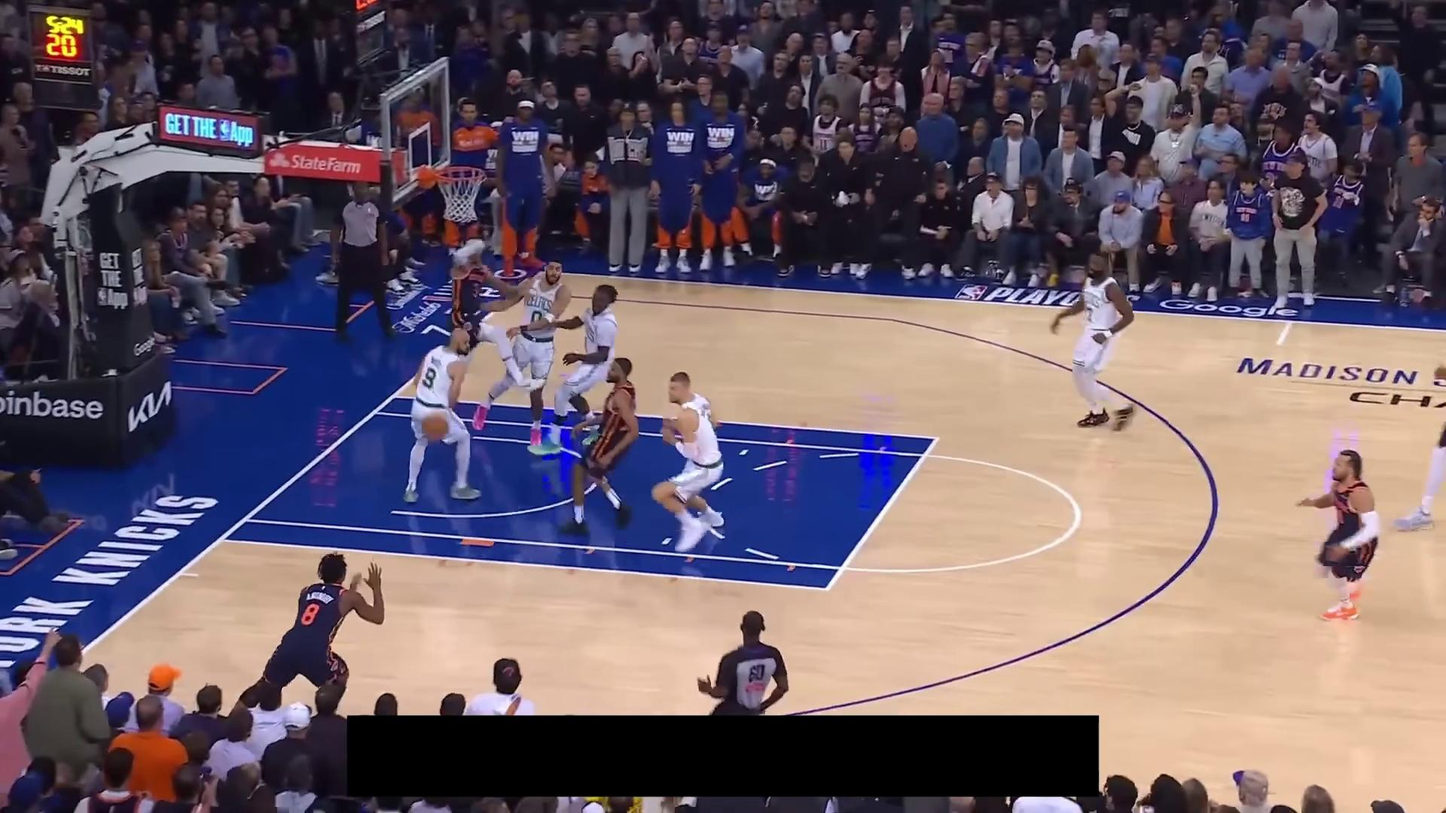ball: (420, 414, 456, 442)
number: (301, 603, 320, 625), (423, 365, 438, 390), (1085, 305, 1095, 323)
player: (224, 546, 393, 713), (470, 253, 577, 450), (528, 281, 630, 458), (439, 235, 547, 390), (1051, 249, 1140, 435), (557, 353, 643, 540), (1294, 447, 1382, 623), (649, 369, 729, 551), (402, 325, 483, 503), (1390, 359, 1446, 533)
referee: (327, 176, 399, 342), (695, 610, 790, 716)
rim: (436, 164, 488, 183)
